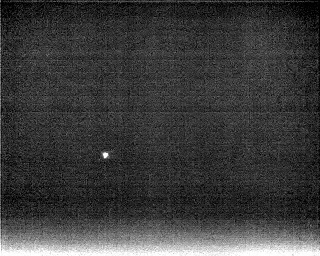BIRD: (100, 149, 111, 163)
